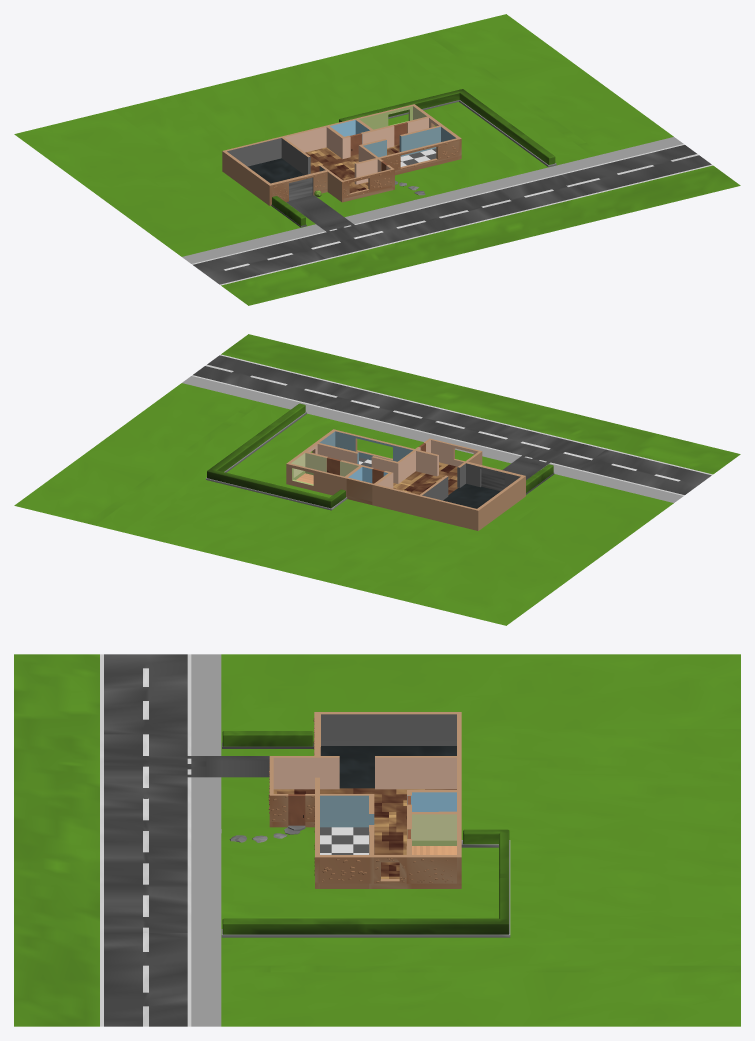
Rendered from HouseBlockoutFloorFix.fbx.
3 views of the same model, one above another, from view 1: azimuth 30°, elevation 25°; view 2: azimuth 150°, elevation 25°; view 3: azimuth 270°, elevation 25° (orthographic). The views are drawn at different scales.
Parts seen in each view (by area): view 1: Floor, Baseboards, HedgeLong, WallKitchen03, WallEntrance03, WallKitchen01, WallGarage03, WallGarage04, WallBedroom04, HedgeShort; view 2: Floor, Baseboards, HedgeLong, WallKitchen03, WallBedroom04, WallGarage03, WallEntrance03, WallKitchen01; view 3: Floor, Baseboards, HedgeLong, WallGarage04, HedgeShort, WallKitchen02, WallBedroom03, WallKitchen04, WallBathroom04, WallEntrance04, WallBathroom02, WallEntrance02 (+2 smaller).
Boxes of the visible parts, bbox=[...] form: Floor: bbox=[14, 14, 740, 305]; Baseboards: bbox=[222, 118, 461, 205]; HedgeLong: bbox=[339, 89, 556, 167]; WallKitchen03: bbox=[379, 137, 461, 171]; WallEntrance03: bbox=[341, 169, 392, 198]; WallKitchen01: bbox=[399, 125, 440, 151]; WallGarage03: bbox=[271, 170, 327, 199]; WallGarage04: bbox=[281, 137, 310, 174]; WallBedroom04: bbox=[358, 104, 415, 129]; HedgeShort: bbox=[271, 196, 306, 227]; Floor: bbox=[14, 334, 740, 625]; Baseboards: bbox=[286, 454, 525, 530]; HedgeLong: bbox=[206, 403, 347, 510]; WallKitchen03: bbox=[332, 429, 414, 461]; WallBedroom04: bbox=[286, 463, 343, 492]; WallGarage03: bbox=[466, 462, 522, 488]; WallEntrance03: bbox=[431, 439, 482, 464]; WallKitchen01: bbox=[317, 443, 358, 464]; Floor: bbox=[14, 654, 740, 1026]; Baseboards: bbox=[269, 712, 461, 888]; HedgeLong: bbox=[221, 829, 510, 937]; WallGarage04: bbox=[375, 756, 456, 783]; HedgeShort: bbox=[222, 731, 313, 748]; WallKitchen02: bbox=[320, 855, 373, 883]; WallBedroom03: bbox=[406, 855, 456, 883]; WallKitchen04: bbox=[315, 794, 368, 821]; WallBathroom04: bbox=[407, 811, 456, 840]; WallEntrance04: bbox=[273, 756, 314, 783]; WallBathroom02: bbox=[407, 790, 456, 811]; WallEntrance02: bbox=[269, 794, 314, 821].
Size of the model in its own units: 95.51 by 3.83 by 78.81.
1 material, 1 textured.
